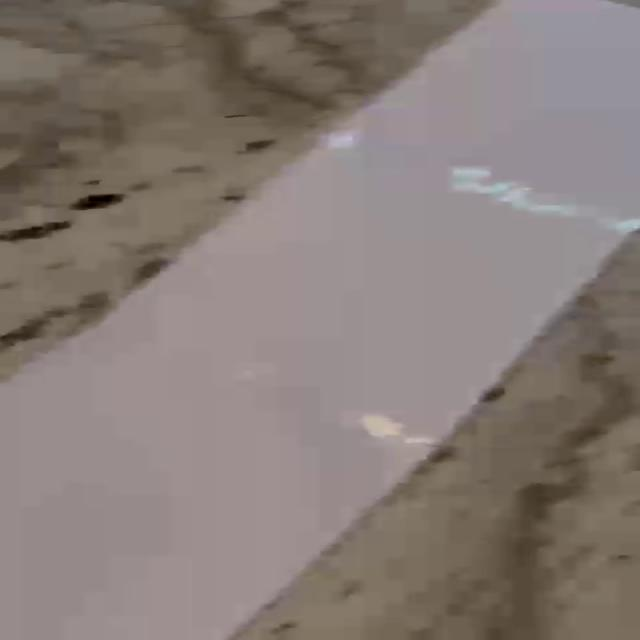road: (3, 1, 640, 640)
